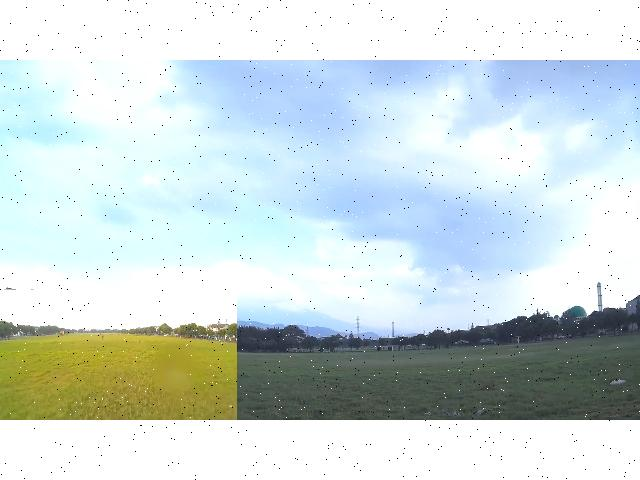Anti-Drone: (0, 281, 20, 295)
